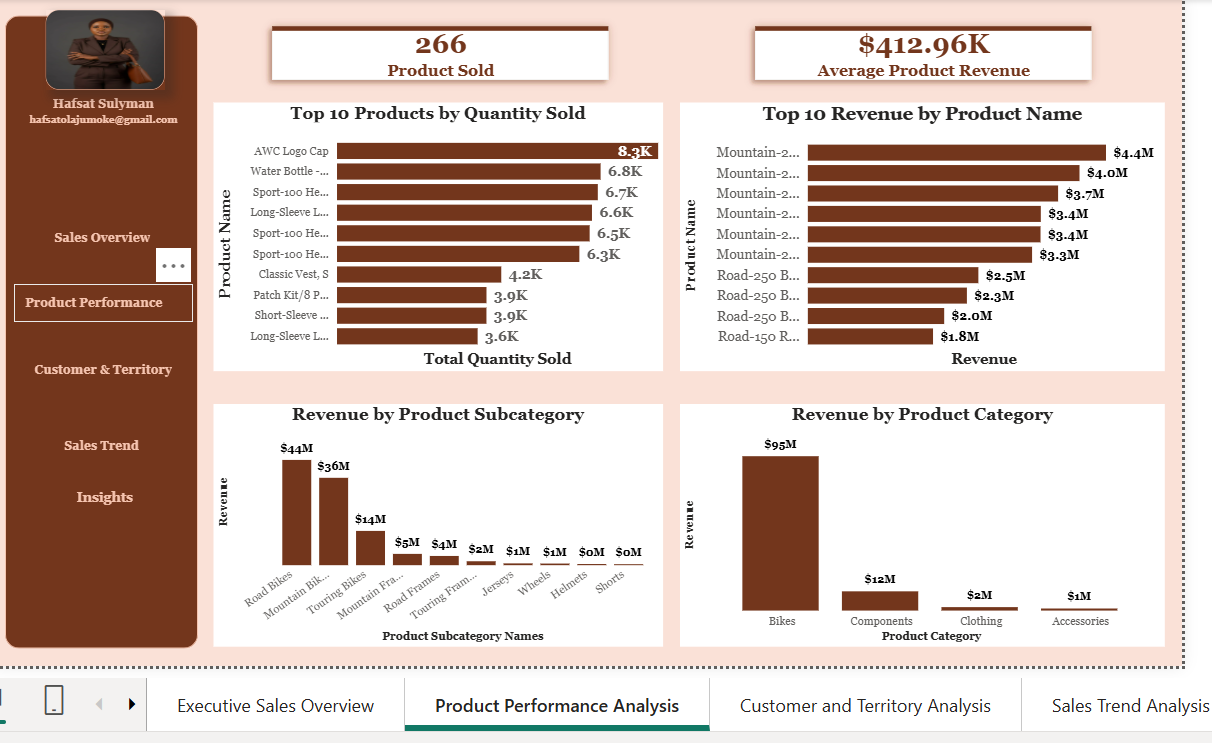

This screenshot's page, from the dashboard's own definition file:
{"tool":"powerbi","page":{"name":"Product Performance Analysis","canvas":[1280,720],"ordinal":1},"visuals":[{"type":"clusteredBarChart","title":"Top 10 Revenue by Product Name","fields":{"Category":["Production Product.Name"],"Y":["Sales SalesOrderDetail.Total Revenue"]},"box":[738.3,111.7,523.3,290],"z":0},{"type":"clusteredBarChart","title":"Top 10 Products by Quantity Sold","fields":{"Category":["Production Product.Name"],"Y":["Sum(Sales SalesOrderDetail.OrderQty)"]},"box":[235,111.7,485,290],"z":1000},{"type":"columnChart","title":"Revenue by Product Category","fields":{"Y":["Sales SalesOrderDetail.Total Revenue"],"Category":["Production ProductCategory.Name"]},"box":[738.3,436.7,523.3,261.7],"z":2000},{"type":"columnChart","title":"Revenue by Product Subcategory","fields":{"Y":["Sales SalesOrderDetail.Total Revenue"],"Category":["Production ProductSubcategory.Name"]},"box":[235,436.7,485,261.7],"z":3000},{"type":"cardVisual","fields":{"Data":["Production Product.Product Sold"]},"box":[268.3,0,421.7,116.7],"z":4000},{"type":"cardVisual","fields":{"Data":["Production Product.Average Product Revenue"]},"box":[790,0,421.7,116.7],"z":5000},{"type":"shape","box":[10,18.3,208.3,683.3],"z":6000},{"type":"textbox","box":[48.3,96.7,135,31.7],"z":7000},{"type":"image","box":[53.3,11.7,128.3,86.7],"z":8000},{"type":"textbox","box":[30,113.3,176.7,28.3],"z":9000},{"type":"actionButton","box":[19.4,307.7,192.7,40.5],"z":10000},{"type":"actionButton","box":[19.4,380.5,192.7,40.5],"z":11000},{"type":"actionButton","box":[17.8,463.1,192.7,38.9],"z":12000},{"type":"actionButton","box":[17.8,238,194.3,38.9],"z":14000}]}

Visuals, with their boxes on the page's 1280x720 design canvas (x1, y1, x2, y2). These are canvas units, not pixel positions in the 1212x743 screenshot, which may show the page scaled, cropped or inside an application window:
"Top 10 Revenue by Product Name" clusteredBarChart: 738, 112, 1262, 402
"Top 10 Products by Quantity Sold" clusteredBarChart: 235, 112, 720, 402
"Revenue by Product Category" columnChart: 738, 437, 1262, 698
"Revenue by Product Subcategory" columnChart: 235, 437, 720, 698
cardVisual - Production Product.Product Sold: 268, 0, 690, 117
cardVisual - Production Product.Average Product Revenue: 790, 0, 1212, 117
shape: 10, 18, 218, 702
textbox: 48, 97, 183, 128
image: 53, 12, 182, 98
textbox: 30, 113, 207, 142
actionButton: 19, 308, 212, 348
actionButton: 19, 380, 212, 421
actionButton: 18, 463, 210, 502
actionButton: 18, 238, 212, 277
